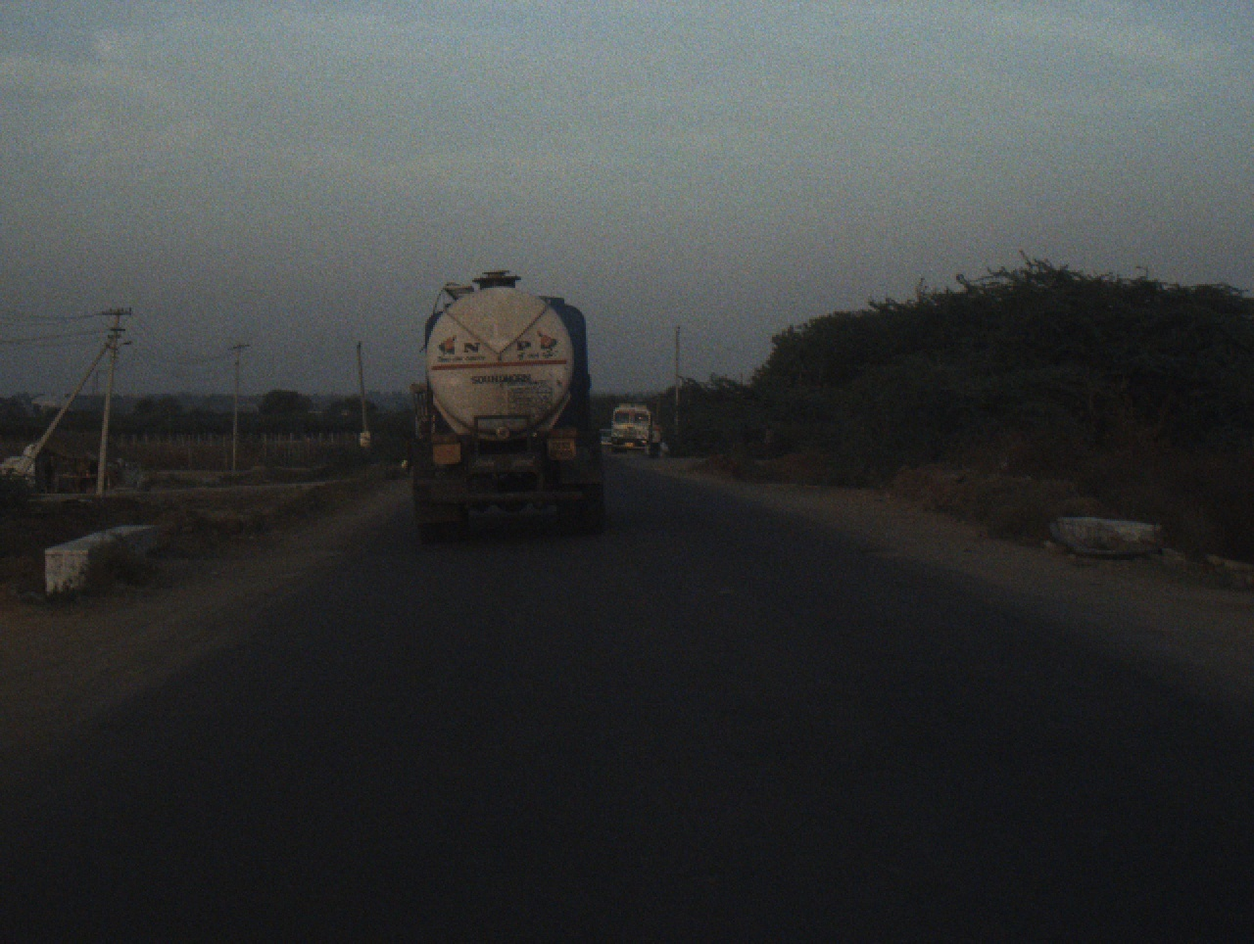car: (596, 420, 613, 448)
person: (646, 422, 665, 459)
truck: (408, 264, 604, 539), (610, 402, 660, 454), (401, 370, 435, 444)
